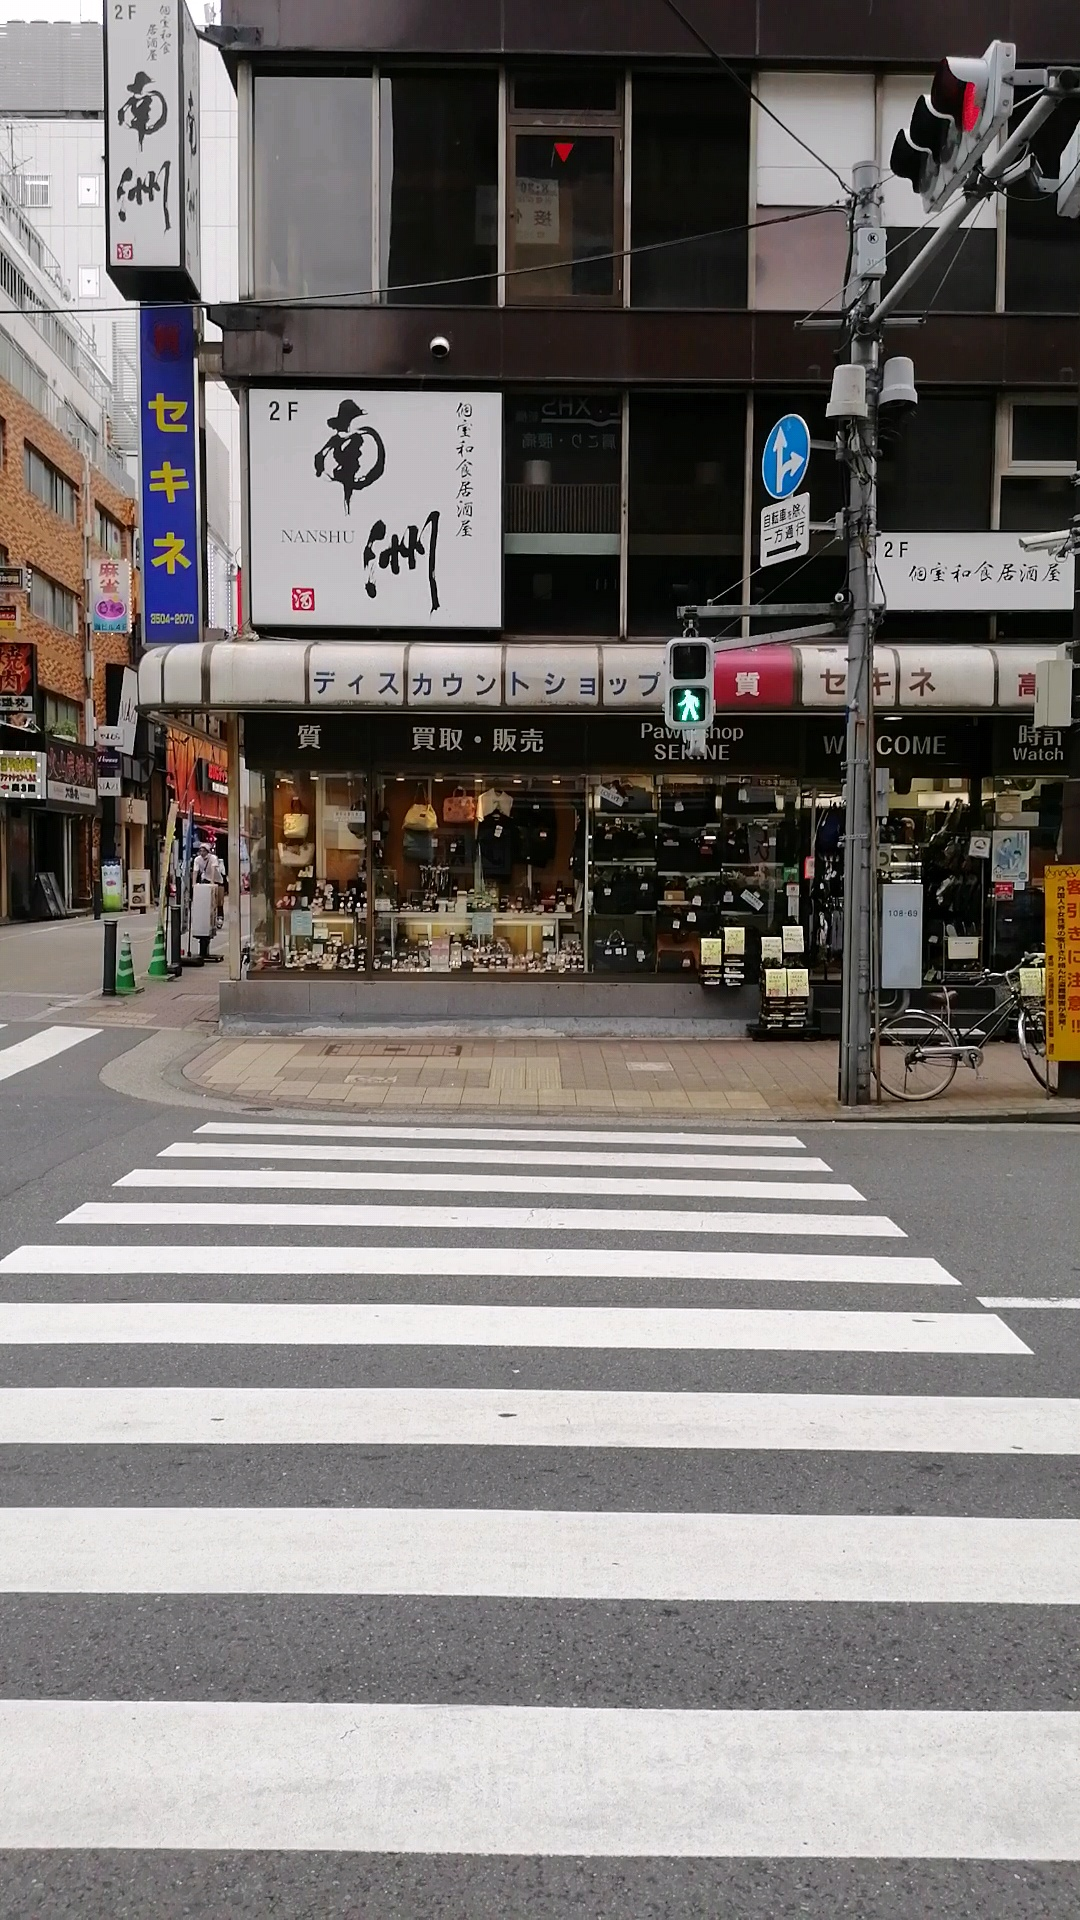green: (665, 636, 712, 732)
